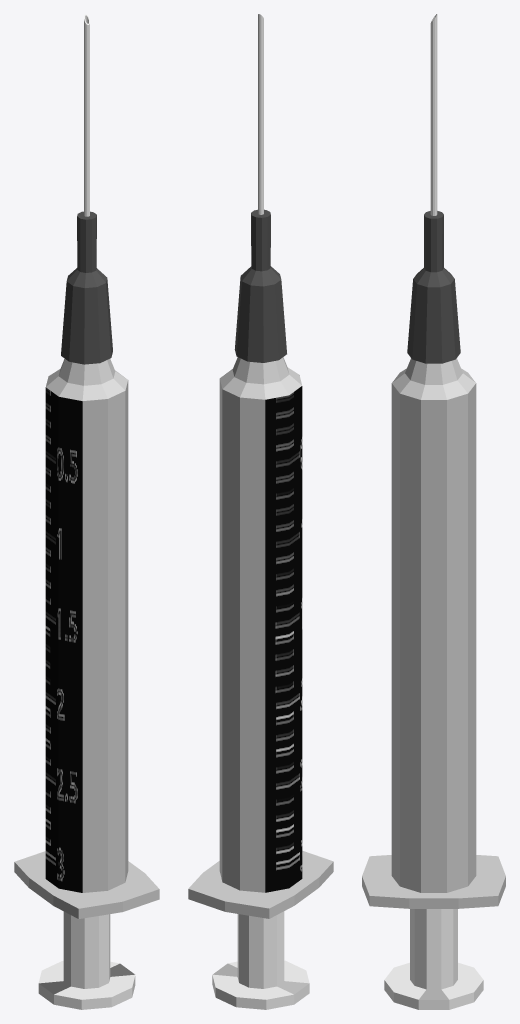
Rendered from injeção.fbx.
3 views of the same model, side by side, from view 1: azimuth 30°, elevation 25°; view 2: azimuth 150°, elevation 25°; view 3: azimuth 270°, elevation 25° (orthographic).
Visible parts, largest first — view 1: Cilindro, Cilindro.005, Cilindro.003, Cilindro.001, Cilindro.002; view 2: Cilindro, Cilindro.005, Cilindro.003, Cilindro.001, Cilindro.002; view 3: Cilindro, Cilindro.003, Cilindro.001, Cilindro.002.
Boxes of the visible parts, box(x1,y1,x2,y2) form: Cilindro: box(14, 358, 159, 918); Cilindro.005: box(45, 387, 82, 892); Cilindro.003: box(38, 911, 135, 1009); Cilindro.001: box(61, 211, 112, 364); Cilindro.002: box(84, 14, 89, 216); Cilindro: box(188, 357, 333, 918); Cilindro.005: box(265, 386, 302, 892); Cilindro.003: box(212, 911, 309, 1009); Cilindro.001: box(234, 209, 286, 362); Cilindro.002: box(258, 14, 263, 214); Cilindro: box(362, 358, 505, 908); Cilindro.003: box(384, 909, 483, 1009); Cilindro.001: box(407, 211, 460, 363); Cilindro.002: box(430, 14, 437, 215).
Bounding box in the file's own units: 43.31 × 440 × 58.81.
Materials: 6 (1 with a texture image).
